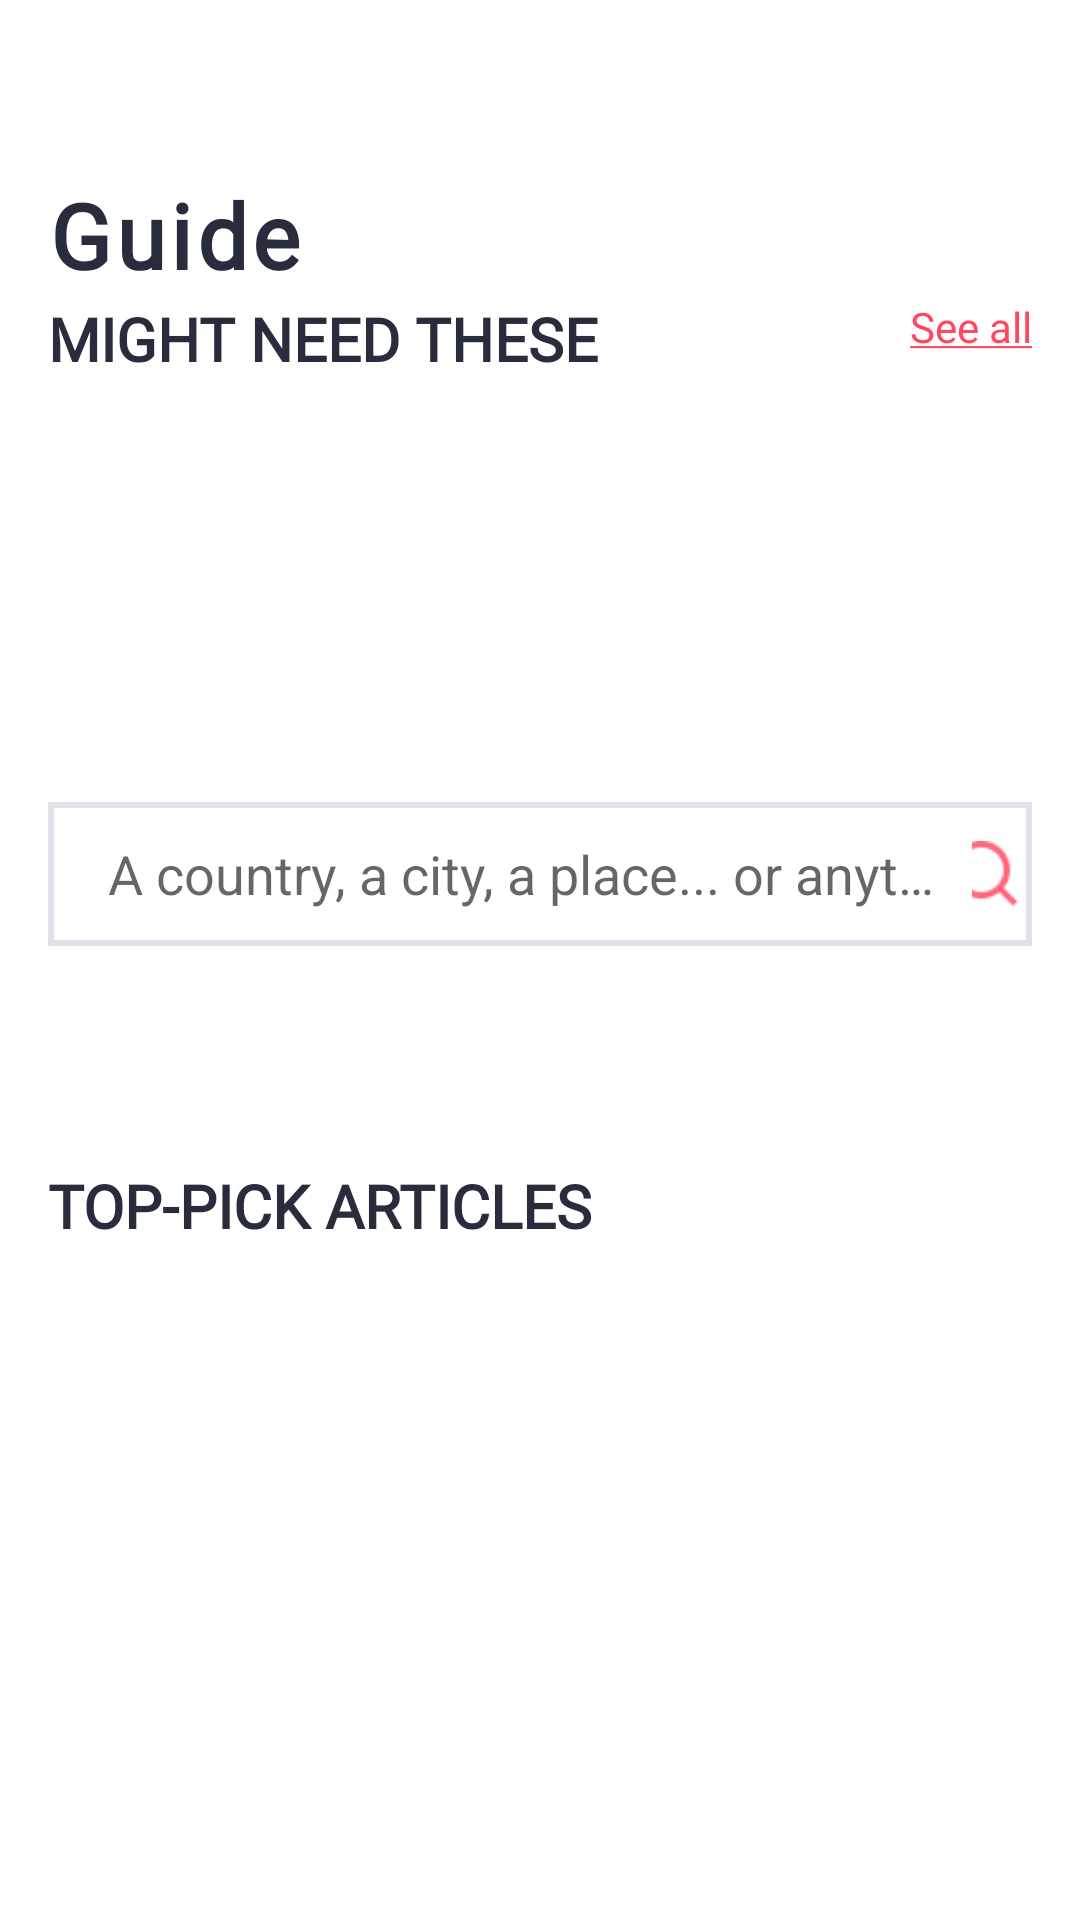

Named icons in this screenshot (1080px x 1920px) and their bounding boxes, [x1=x1, y1=y1, x2=x2, y2=y2]:
searchview: [x1=939, y1=802, x2=1032, y2=946]
